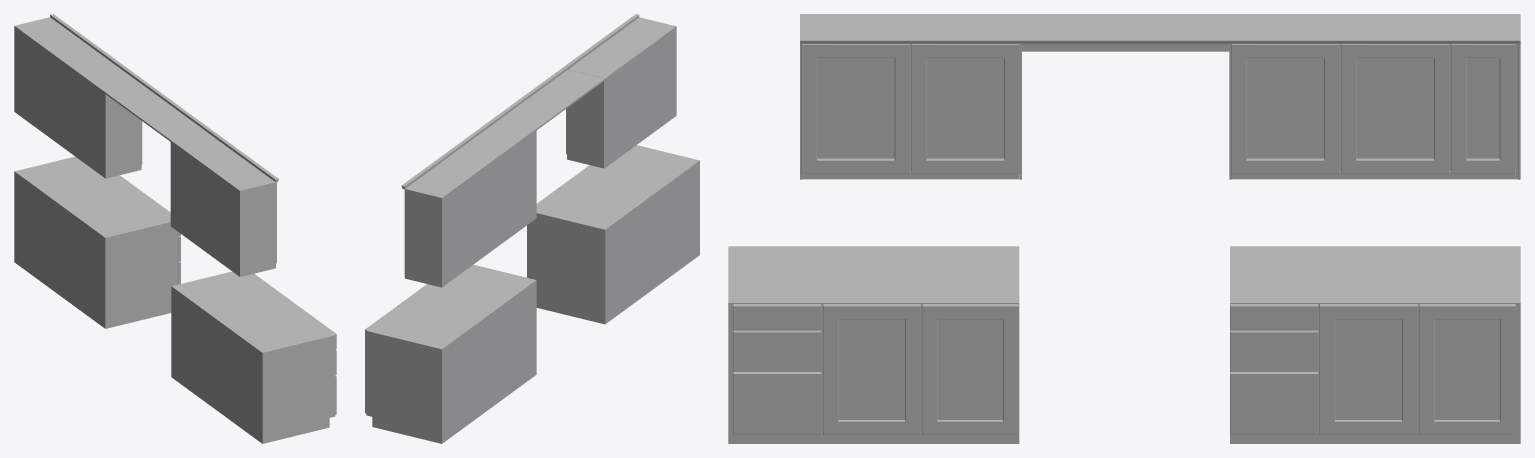
The model's file is cupboards.glb.
3 renders of one model, left to right at view 1: azimuth 30°, elevation 25°; view 2: azimuth 150°, elevation 25°; view 3: azimuth 270°, elevation 25°, orthographic. The views are drawn at different scales.
Visible parts, largest first — view 1: CupboardUnits_0001; view 2: CupboardUnits_0001; view 3: CupboardUnits_0001.
Boxes of the visible parts, x1,y1,x2,y2 form: CupboardUnits_0001: (14, 14, 336, 443); CupboardUnits_0001: (365, 14, 699, 443); CupboardUnits_0001: (728, 14, 1520, 443).
Size of the model in its own units: 0.8354 by 2.52 by 4.75.
1 material, 1 textured.
